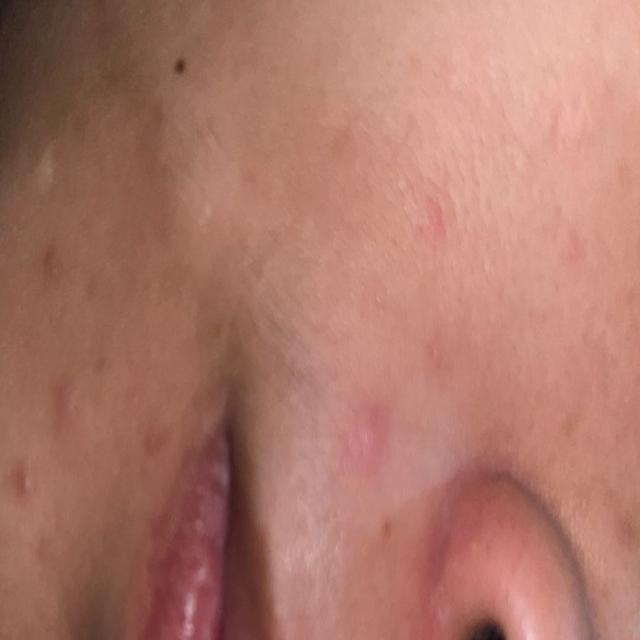papule: (342, 390, 403, 480)
